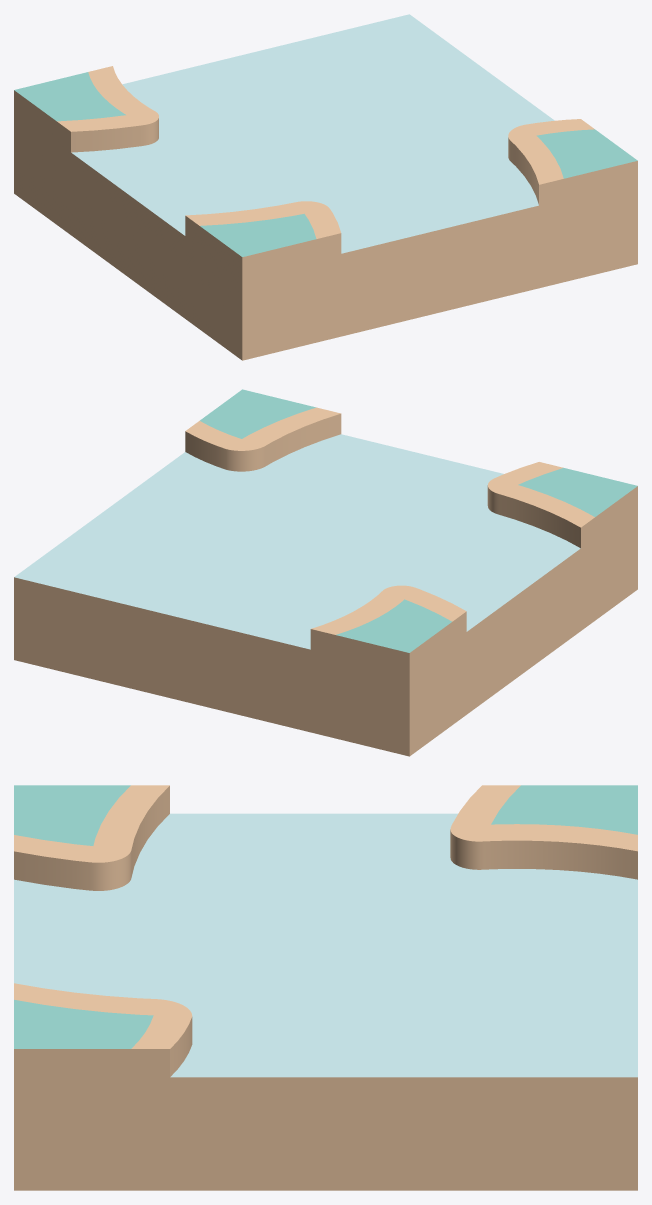
The model's file is ground_dirtThreePointWater.fbx.
The picture shows the model from 3 angles, top to bottom: view 1: azimuth 30°, elevation 25°; view 2: azimuth 150°, elevation 25°; view 3: azimuth 270°, elevation 25°; orthographic projection. The views are drawn at different scales.
Parts seen in each view (by area): view 1: ground_dirtRiverCrossing; view 2: ground_dirtRiverCrossing; view 3: ground_dirtRiverCrossing.
Part boxes in pixels (x1=…): ground_dirtRiverCrossing: x1=14, y1=14, x2=637, y2=360; ground_dirtRiverCrossing: x1=14, y1=389, x2=637, y2=756; ground_dirtRiverCrossing: x1=14, y1=785, x2=637, y2=1190.
Bounding box in the file's own units: 1000 × 250 × 1000.
